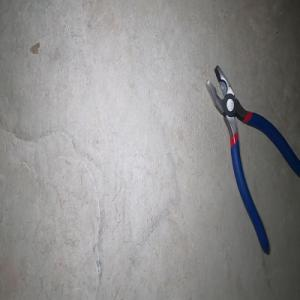Pliers: (205, 64, 300, 254)
